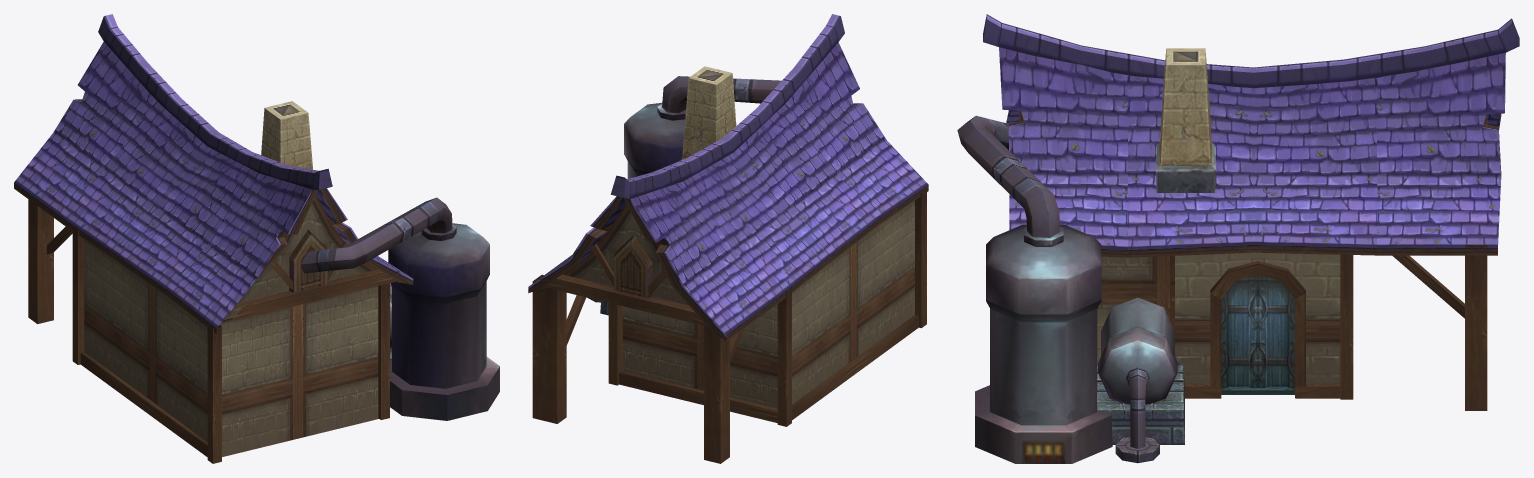
The model's file is zhucheng_wuzi02.FBX.
3 renders of one model, left to right at view 1: azimuth 30°, elevation 25°; view 2: azimuth 150°, elevation 25°; view 3: azimuth 270°, elevation 25°, orthographic. The views are drawn at different scales.
Visible parts, largest first — view 1: zhucheng_wuzi02, zhucheng_wuzi0202; view 2: zhucheng_wuzi02, zhucheng_wuzi0202; view 3: zhucheng_wuzi02, zhucheng_wuzi0202.
Boxes of the visible parts, x1,y1,x2,y2 form: zhucheng_wuzi02: (14,14,413,463); zhucheng_wuzi0202: (300,197,499,420); zhucheng_wuzi02: (528,14,928,463); zhucheng_wuzi0202: (587,76,781,315); zhucheng_wuzi02: (983,14,1519,410); zhucheng_wuzi0202: (957,115,1184,463).
Bounding box in the file's own units: 292 × 405 × 268.
